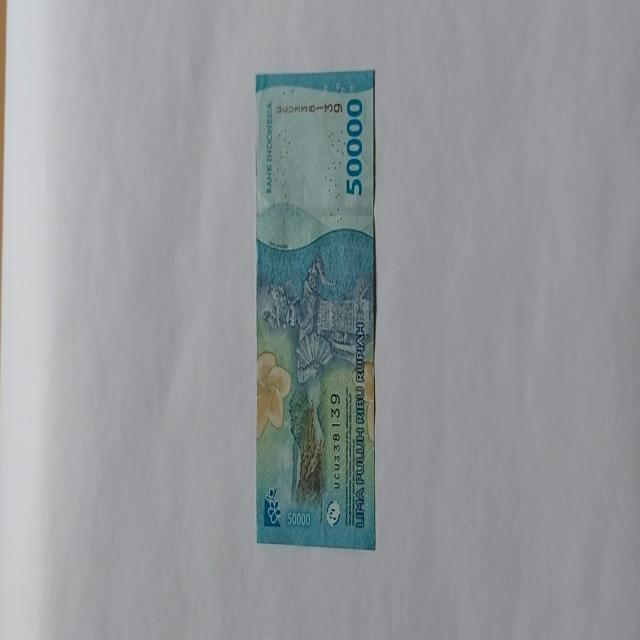lima puluh ribu rupiah: (254, 70, 377, 550)
